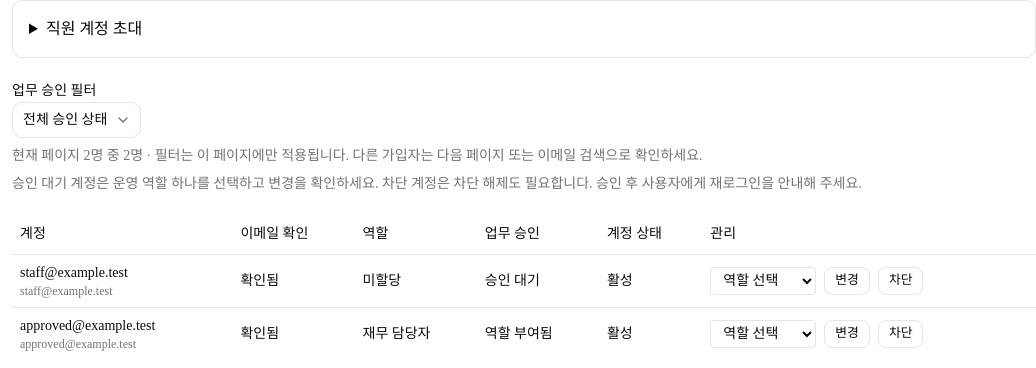
filters approval waiting within the loaded page without hiding the scope
The width and height of the screenshot is (1036, 368).
Select "승인 대기" in the dropdown labelled "업무 승인 필터" at (76, 120), box [12,102,141,138]
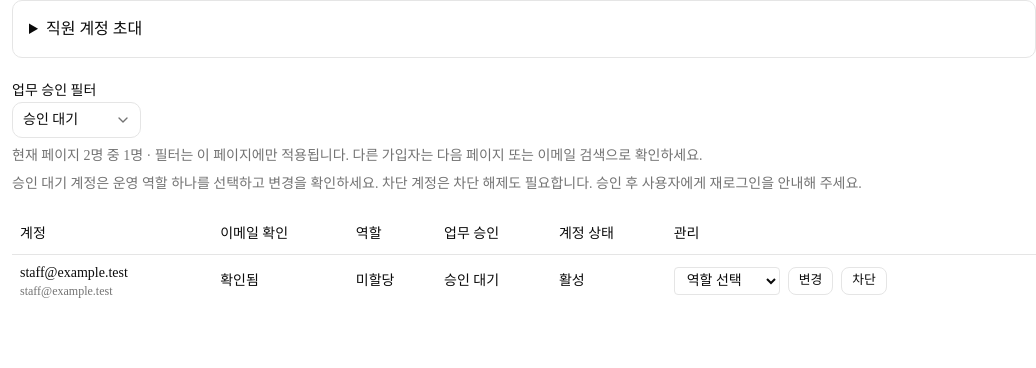
Expected: the 1st text "staff@example.test" is shown, [20,264,128,280]
Expected: the text "approved@example.test" is gone
Expected: the text "현재 페이지 2명 중 1명" is shown, [12,148,702,163]
